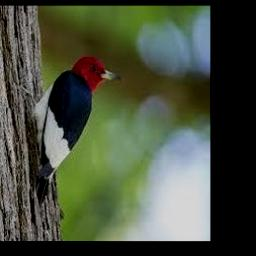Woodpecker: (20, 55, 121, 204)
